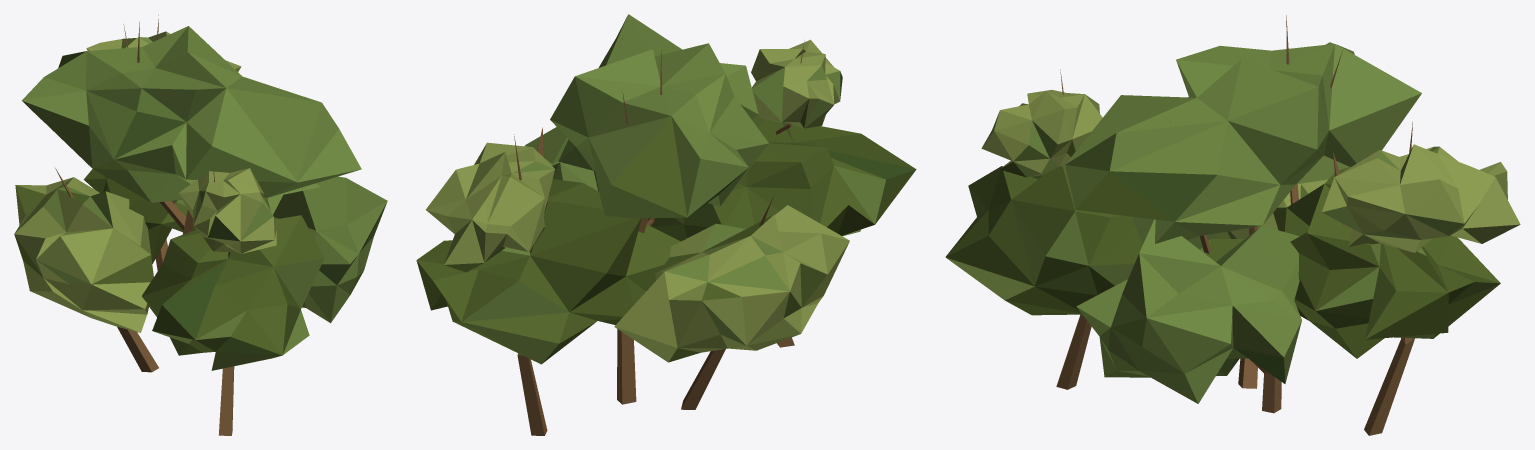
Rendered from Bush.fbx.
3 renders of one model, left to right at view 1: azimuth 30°, elevation 25°; view 2: azimuth 150°, elevation 25°; view 3: azimuth 270°, elevation 25°, orthographic. The views are drawn at different scales.
Visible parts, largest first — view 1: Bush; view 2: Bush; view 3: Bush.
Boxes of the visible parts, bbox=[...] form: Bush: bbox=[14, 14, 387, 435]; Bush: bbox=[416, 14, 916, 435]; Bush: bbox=[945, 15, 1520, 435].
Size of the model in its own units: 99.66 by 102 by 140.
